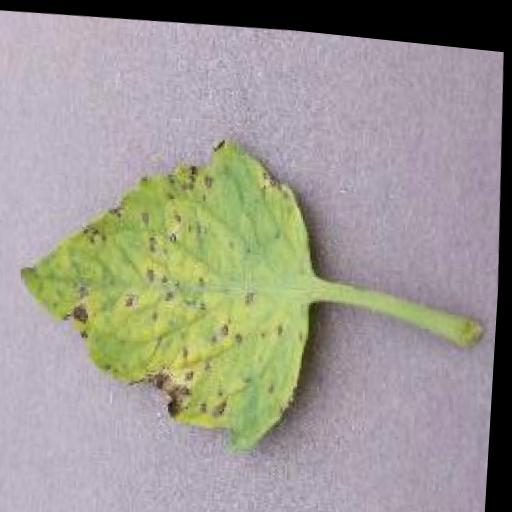Septoria: (7, 112, 326, 455)
